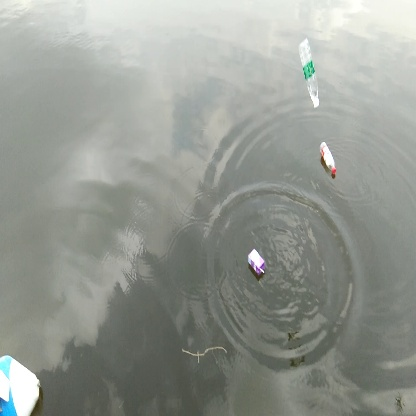bottle: (294, 35, 325, 111), (315, 138, 340, 180)
milk-box: (246, 245, 270, 278)
